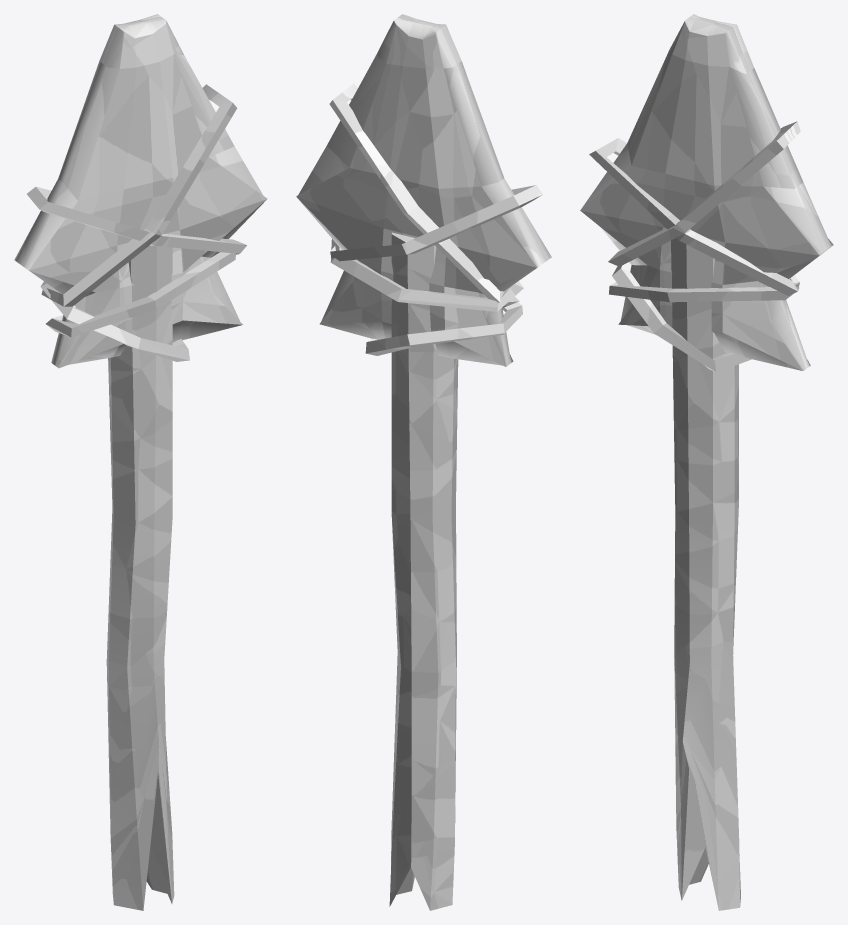
The model's file is 02_spear.fbx.
3 renders of one model, left to right at view 1: azimuth 30°, elevation 25°; view 2: azimuth 150°, elevation 25°; view 3: azimuth 330°, elevation 25°, orthographic.
Visible parts, largest first — view 1: lance1_02:nurbsCircle2; view 2: lance1_02:nurbsCircle2; view 3: lance1_02:nurbsCircle2.
Boxes of the visible parts, x1,y1,x2,y2 form: lance1_02:nurbsCircle2: (14, 14, 267, 910); lance1_02:nurbsCircle2: (296, 14, 551, 910); lance1_02:nurbsCircle2: (580, 14, 833, 910).
Bounding box in the file's own units: 0.6002 × 2.1 × 0.2474.
